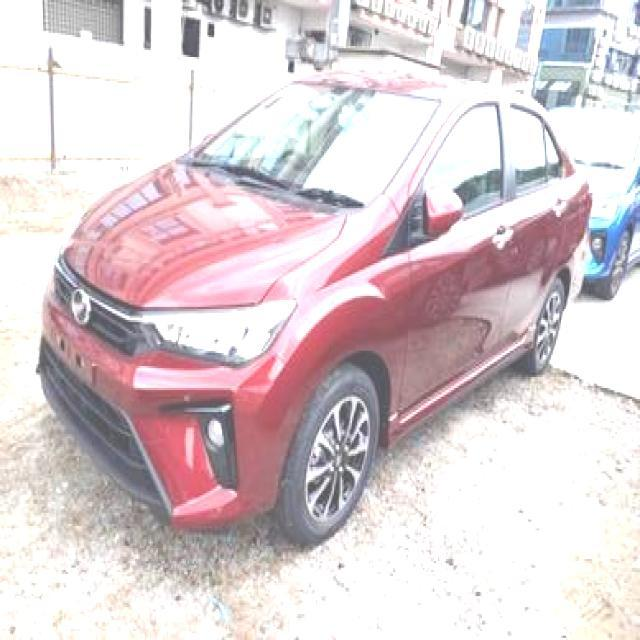PeroduaBezza: (35, 62, 594, 546)
